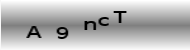9: (55, 26, 69, 40)
A: (25, 24, 42, 39)
T: (112, 10, 127, 24)
c: (97, 15, 109, 27)
n: (82, 19, 97, 31)
